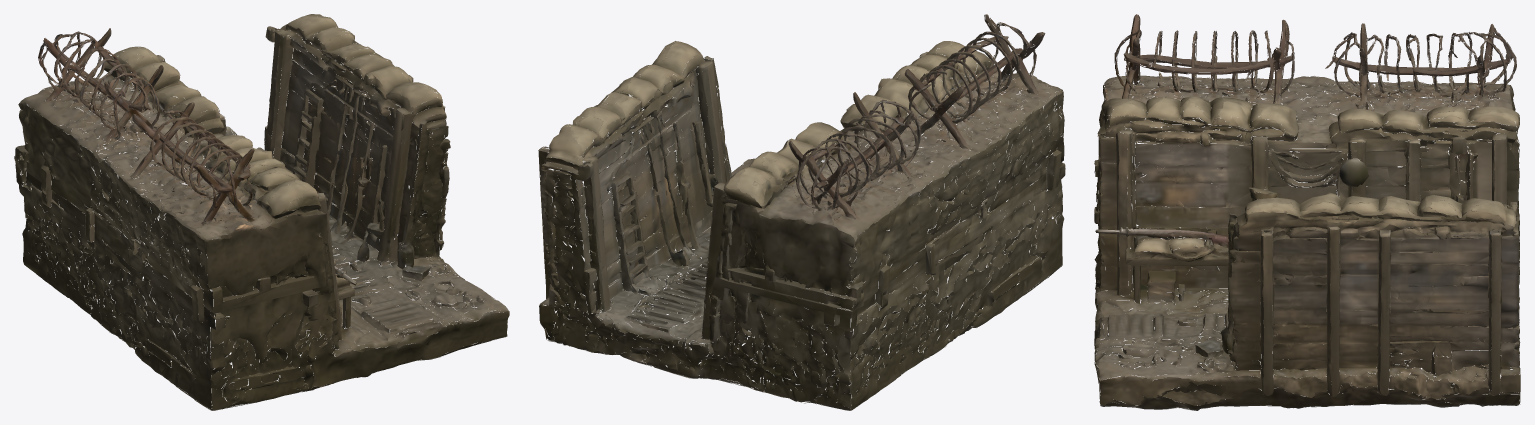
Rendered from trench_corner.glb.
3 views of the same model, side by side, from view 1: azimuth 30°, elevation 25°; view 2: azimuth 150°, elevation 25°; view 3: azimuth 270°, elevation 25° (orthographic). The views are drawn at different scales.
Parts seen in each view (by area): view 1: geometry_0; view 2: geometry_0; view 3: geometry_0.
Boxes of the visible parts, x1,y1,x2,y2 form: geometry_0: (14, 14, 509, 410); geometry_0: (538, 14, 1065, 410); geometry_0: (1094, 14, 1520, 410).
Bounding box in the file's own units: 0.3 × 0.2201 × 0.3298.
Materials: 1 (1 with a texture image).
